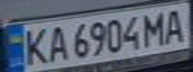0: (103, 16, 127, 53)
4: (121, 12, 145, 51)
6: (69, 20, 90, 60)
9: (87, 19, 109, 57)
A: (160, 6, 190, 44), (42, 22, 69, 63)
K: (18, 25, 51, 66)
M: (139, 9, 172, 47)
